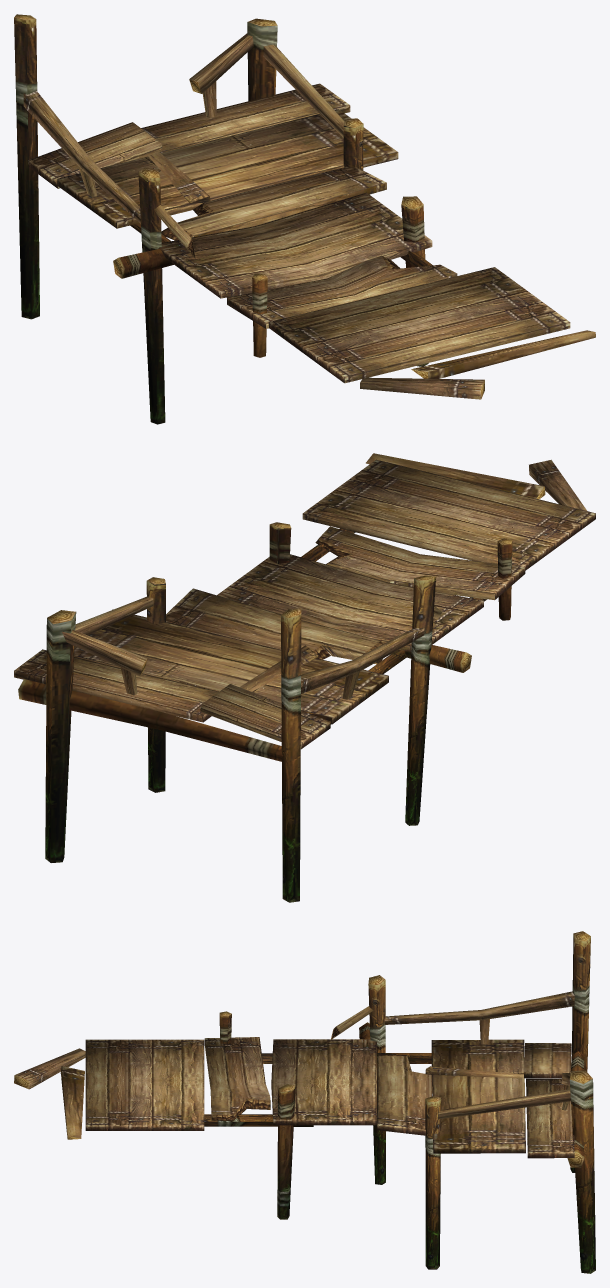
The model's file is S_Build_Village038.FBX.
3 renders of one model, top to bottom at view 1: azimuth 30°, elevation 25°; view 2: azimuth 150°, elevation 25°; view 3: azimuth 270°, elevation 25°, orthographic. The views are drawn at different scales.
Parts seen in each view (by area): view 1: S_Build_Village038; view 2: S_Build_Village038; view 3: S_Build_Village038.
Part boxes in pixels (left/top/right/bottom): S_Build_Village038: left=14, top=14, right=595, bottom=424; S_Build_Village038: left=14, top=453, right=595, bottom=902; S_Build_Village038: left=14, top=931, right=595, bottom=1273.
Size of the model in its own units: 654 by 1257 by 586.
